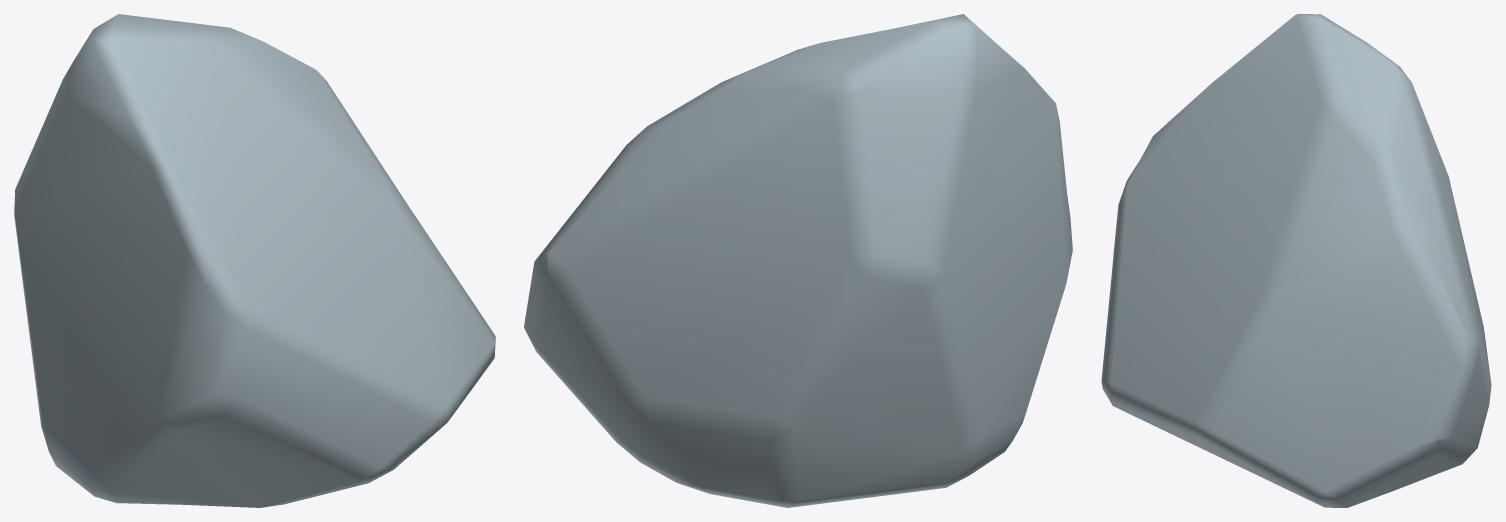
File: stone_003_001.glb
3 views of the same model, side by side, from view 1: azimuth 30°, elevation 25°; view 2: azimuth 150°, elevation 25°; view 3: azimuth 270°, elevation 25° (orthographic). The views are drawn at different scales.
Visible parts, largest first — view 1: stone_003.001; view 2: stone_003.001; view 3: stone_003.001.
Part boxes in pixels (left/top/right/bottom): stone_003.001: left=14, top=14, right=495, bottom=507; stone_003.001: left=524, top=14, right=1072, bottom=507; stone_003.001: left=1101, top=14, right=1491, bottom=507.
Size of the model in its own units: 1.92 by 1.99 by 1.87.
1 material, 1 textured.
